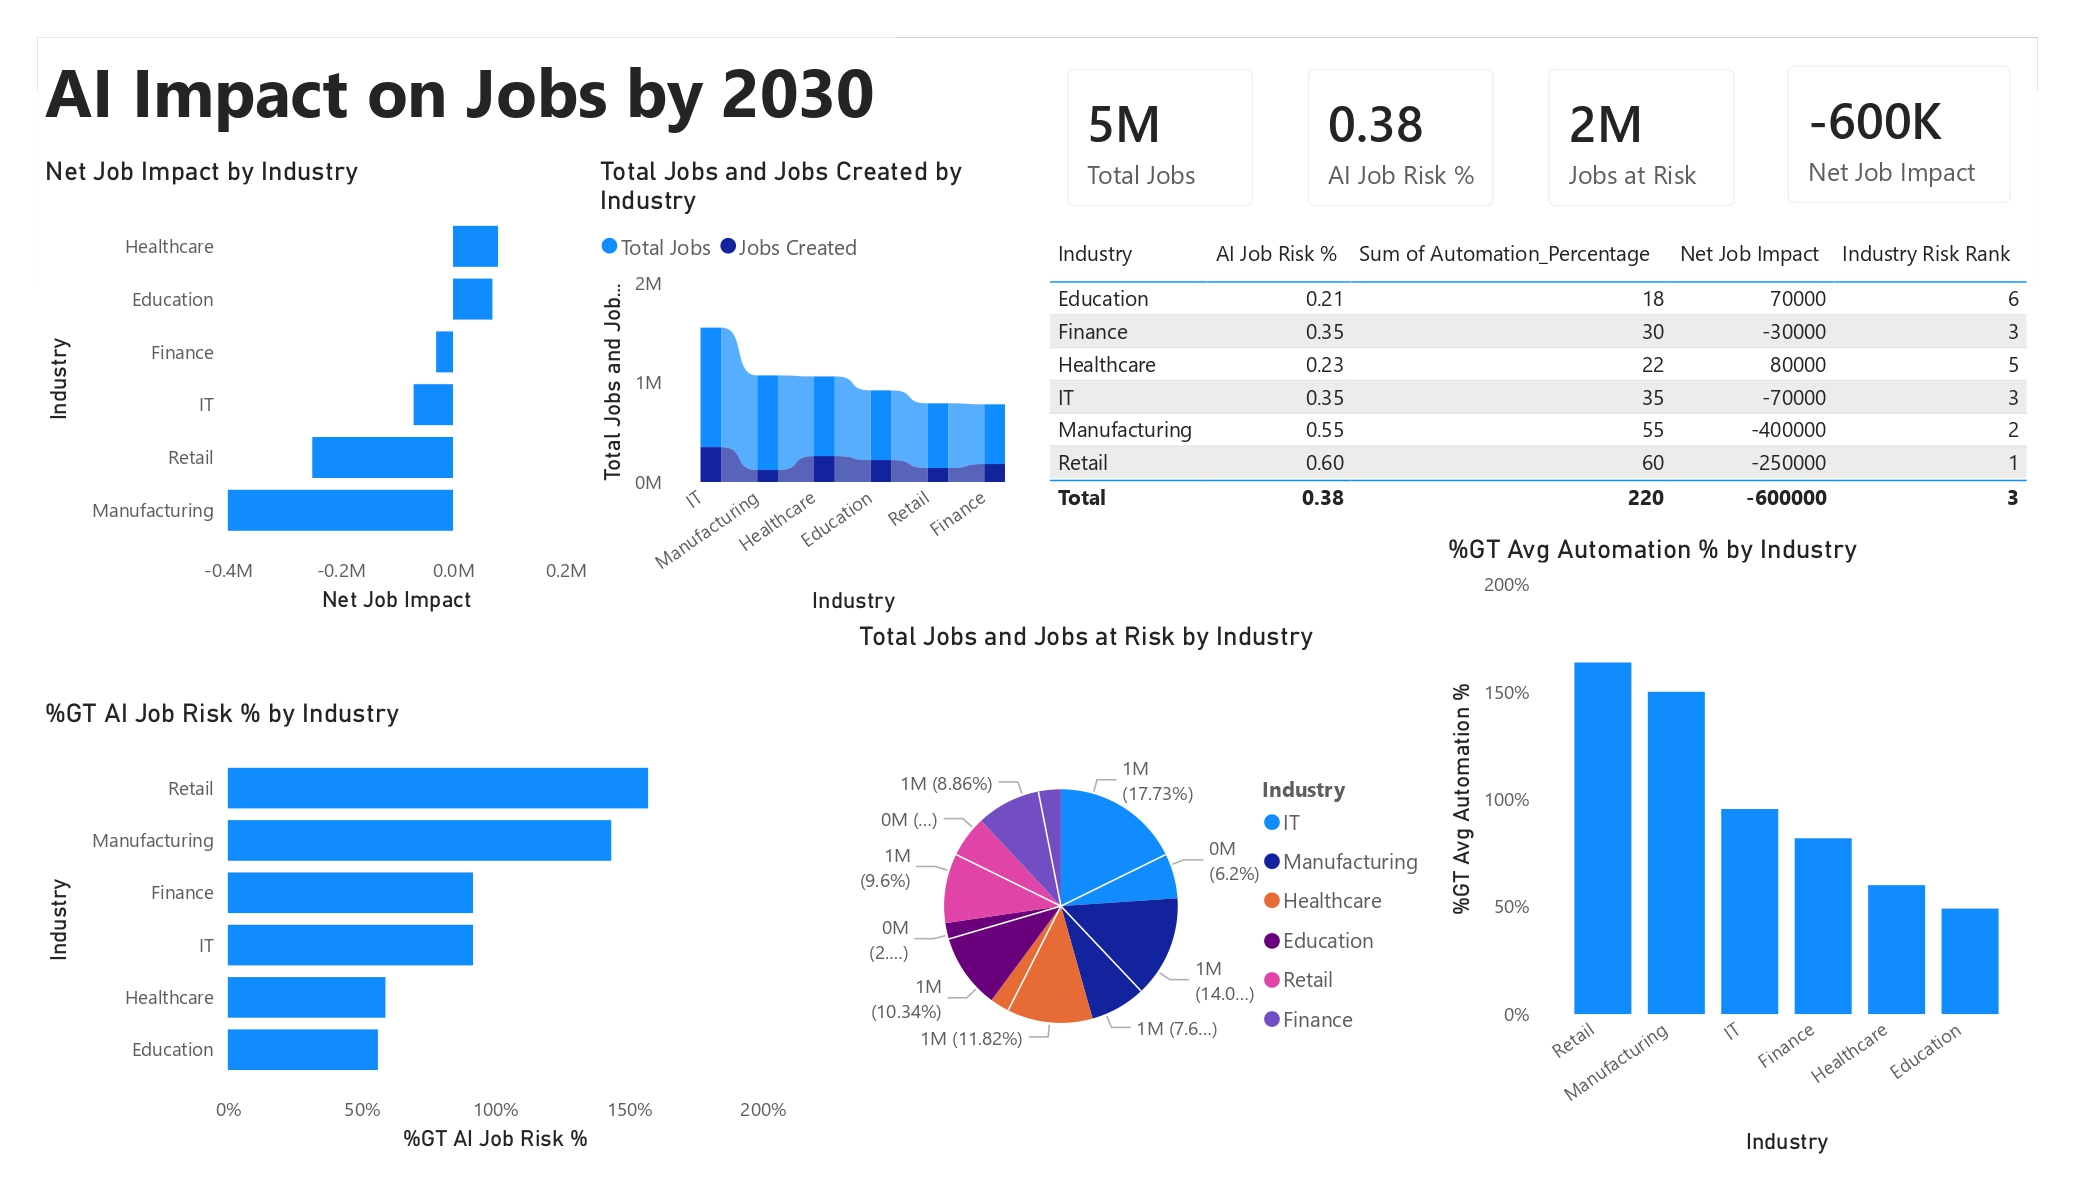

The dashboard page shown, as its layout file describes it:
{"tool":"powerbi","page":{"name":"Executive Overview","canvas":[1280,720],"ordinal":0},"visuals":[{"type":"cardVisual","fields":{"Data":["AI_Impact_on_Jobs_2030_Enhanced.AI Job Risk %"]},"box":[795.9,2.7,153.7,122.1],"z":0},{"type":"cardVisual","fields":{"Data":["AI_Impact_on_Jobs_2030_Enhanced.Jobs at Risk"]},"box":[949.6,2.7,153.7,122.1],"z":1000},{"type":"cardVisual","fields":{"Data":["AI_Impact_on_Jobs_2030_Enhanced.Net Job Impact"]},"box":[1103.3,1.4,177,122.1],"z":2000},{"type":"cardVisual","fields":{"Data":["AI_Impact_on_Jobs_2030_Enhanced.Total Jobs"]},"box":[642.2,2.7,153.7,122.1],"z":3000},{"type":"clusteredBarChart","fields":{"Category":["AI_Impact_on_Jobs_2030_Enhanced.Industry"],"Y":["AI_Impact_on_Jobs_2030_Enhanced.AI Job Risk %"]},"box":[0,421.9,484.2,295.9],"z":4000},{"type":"columnChart","fields":{"Category":["AI_Impact_on_Jobs_2030_Enhanced.Industry"],"Y":["AI_Impact_on_Jobs_2030_Enhanced.Avg Automation %"]},"box":[897.6,316.7,382.7,403.5],"z":5000},{"type":"tableEx","fields":{"Values":["AI_Impact_on_Jobs_2030_Enhanced.Industry","AI_Impact_on_Jobs_2030_Enhanced.AI Job Risk %","Sum(AI_Impact_on_Jobs_2030_Enhanced.Automation_Percentage)","AI_Impact_on_Jobs_2030_Enhanced.Net Job Impact","AI_Impact_on_Jobs_2030_Enhanced.Industry Risk Rank"]},"box":[642.2,123.5,638.1,193.5],"z":6000},{"type":"actionButton","box":[0,0,100,40],"z":7000},{"type":"clusteredBarChart","fields":{"Category":["AI_Impact_on_Jobs_2030_Enhanced.Industry"],"Y":["AI_Impact_on_Jobs_2030_Enhanced.Net Job Impact"]},"box":[0,74.6,357.1,298.4],"z":8000},{"type":"pieChart","fields":{"Y":["AI_Impact_on_Jobs_2030_Enhanced.Total Jobs","AI_Impact_on_Jobs_2030_Enhanced.Jobs at Risk"],"Category":["AI_Impact_on_Jobs_2030_Enhanced.Industry"]},"box":[520.9,373,376.6,347.3],"z":9000},{"type":"textbox","box":[0,0,550.3,74.1],"z":10000},{"type":"ribbonChart","fields":{"Category":["AI_Impact_on_Jobs_2030_Enhanced.Industry"],"Y":["AI_Impact_on_Jobs_2030_Enhanced.Total Jobs","AI_Impact_on_Jobs_2030_Enhanced.Jobs Created"]},"box":[354.6,74.6,284.9,298.4],"z":11000}]}

Visuals, with their boxes on the page's 1280x720 design canvas (x1, y1, x2, y2). These are canvas units, not pixel positions in the 2075x1200 screenshot, which may show the page scaled, cropped or inside an application window:
cardVisual - AI_Impact_on_Jobs_2030_Enhanced.AI Job Risk %: rect(796, 3, 950, 125)
cardVisual - AI_Impact_on_Jobs_2030_Enhanced.Jobs at Risk: rect(950, 3, 1103, 125)
cardVisual - AI_Impact_on_Jobs_2030_Enhanced.Net Job Impact: rect(1103, 1, 1280, 124)
cardVisual - AI_Impact_on_Jobs_2030_Enhanced.Total Jobs: rect(642, 3, 796, 125)
clusteredBarChart - AI_Impact_on_Jobs_2030_Enhanced.Industry x AI_Impact_on_Jobs_2030_Enhanced.AI Job Risk %: rect(0, 422, 484, 718)
columnChart - AI_Impact_on_Jobs_2030_Enhanced.Industry x AI_Impact_on_Jobs_2030_Enhanced.Avg Automation %: rect(898, 317, 1280, 720)
tableEx - AI_Impact_on_Jobs_2030_Enhanced.Industry x AI_Impact_on_Jobs_2030_Enhanced.AI Job Risk %: rect(642, 124, 1280, 317)
actionButton: rect(0, 0, 100, 40)
clusteredBarChart - AI_Impact_on_Jobs_2030_Enhanced.Industry x AI_Impact_on_Jobs_2030_Enhanced.Net Job Impact: rect(0, 75, 357, 373)
pieChart - AI_Impact_on_Jobs_2030_Enhanced.Total Jobs x AI_Impact_on_Jobs_2030_Enhanced.Jobs at Risk: rect(521, 373, 898, 720)
textbox: rect(0, 0, 550, 74)
ribbonChart - AI_Impact_on_Jobs_2030_Enhanced.Industry x AI_Impact_on_Jobs_2030_Enhanced.Total Jobs: rect(355, 75, 640, 373)
